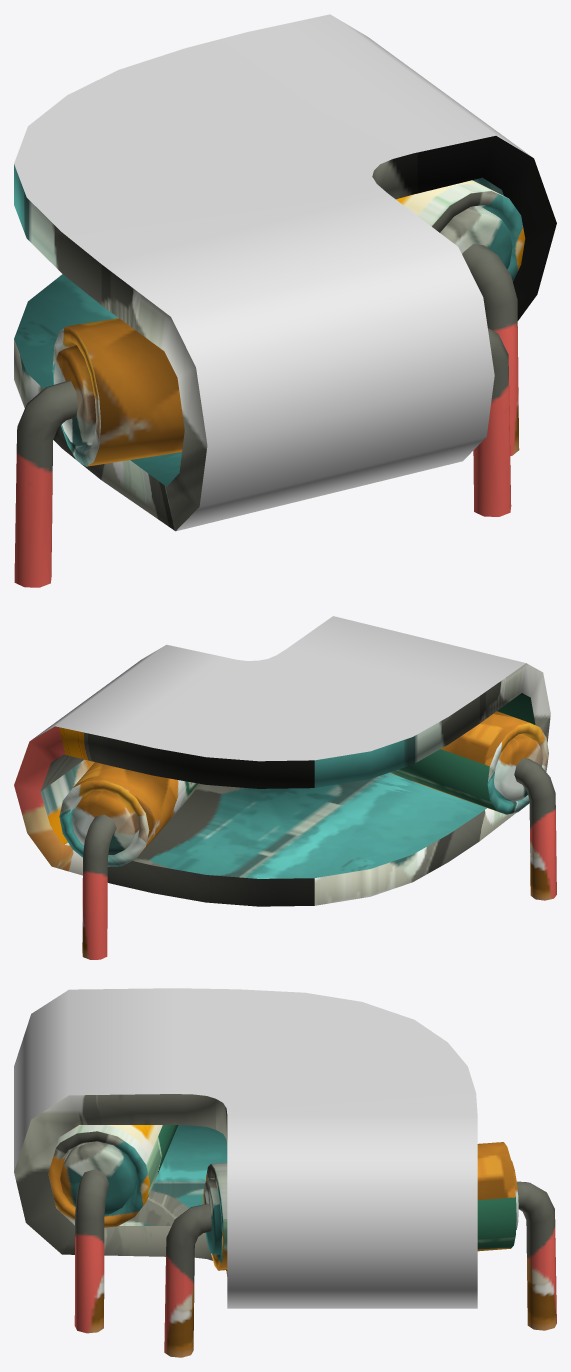
The model's file is MountedSmall90ConveyorBelt.fbx.
3 views of the same model, one above another, from view 1: azimuth 30°, elevation 25°; view 2: azimuth 150°, elevation 25°; view 3: azimuth 270°, elevation 25° (orthographic). The views are drawn at different scales.
Parts seen in each view (by area): view 1: MountedSmall90ConveyorBelt; view 2: MountedSmall90ConveyorBelt; view 3: MountedSmall90ConveyorBelt.
Part boxes in pixels (box(x1,y1,x2,y2)): MountedSmall90ConveyorBelt: box(14, 14, 556, 587); MountedSmall90ConveyorBelt: box(14, 616, 556, 959); MountedSmall90ConveyorBelt: box(14, 988, 556, 1357).
Size of the model in its own units: 2.76 by 1.28 by 2.92.
